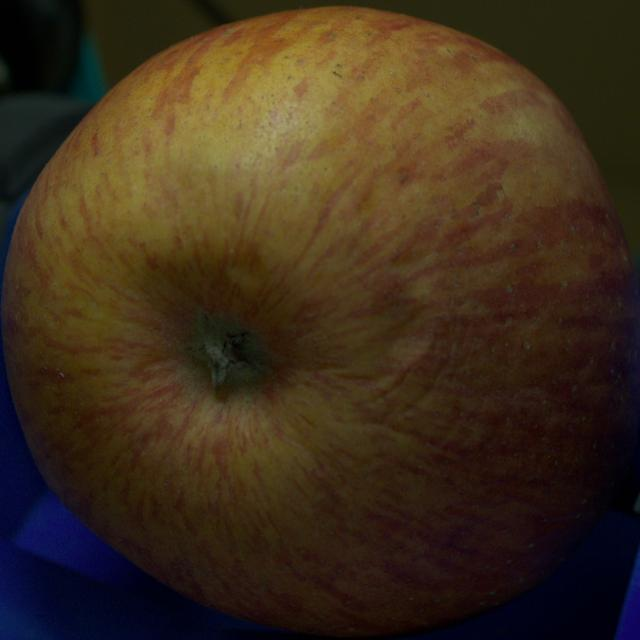apple: (1, 8, 639, 635)
